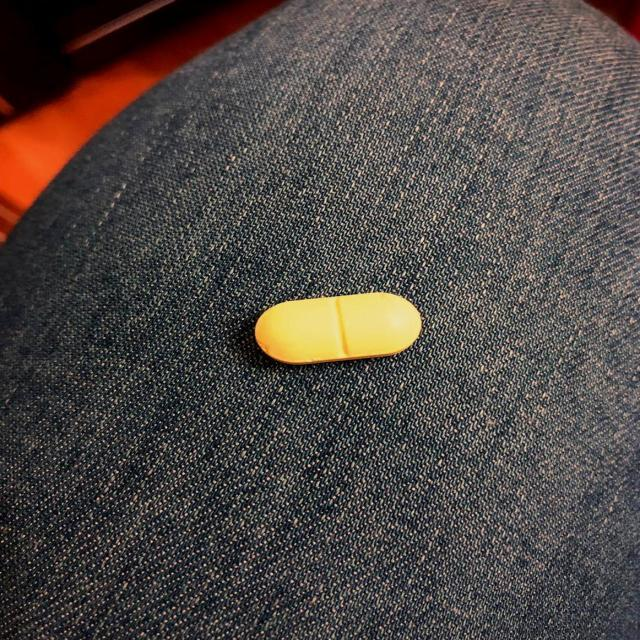pill: (237, 292, 433, 368)
